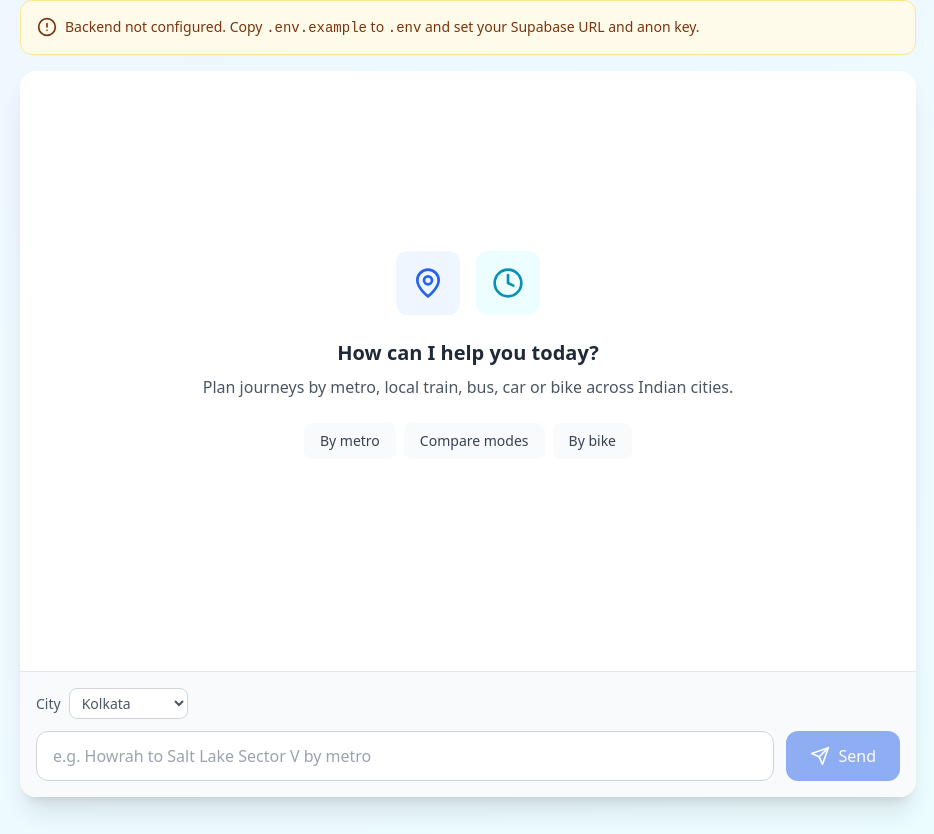
Test case: TransportAssistant › shows city-specific suggestions when the city changes
(page scrolled)
Select "Mumbai" in the dropdown labelled "City" at point(128, 704), box x1=69 y1=688 x2=188 y2=719
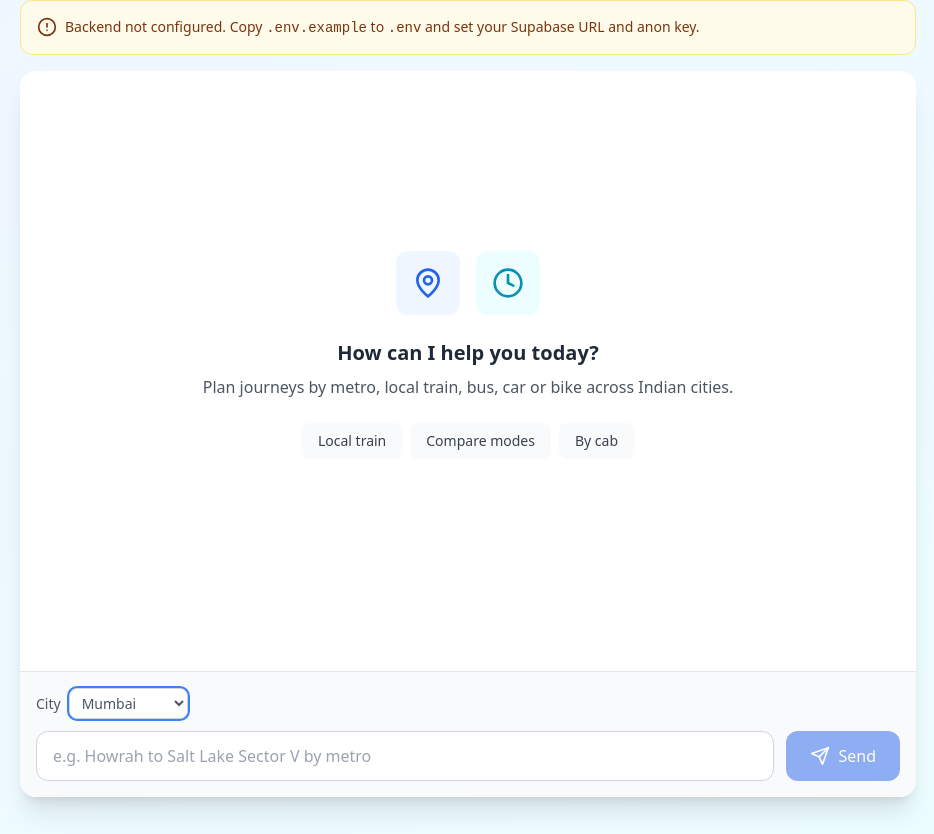
Click the button "Local train" at point(352, 441), box x1=302 y1=423 x2=402 y2=459
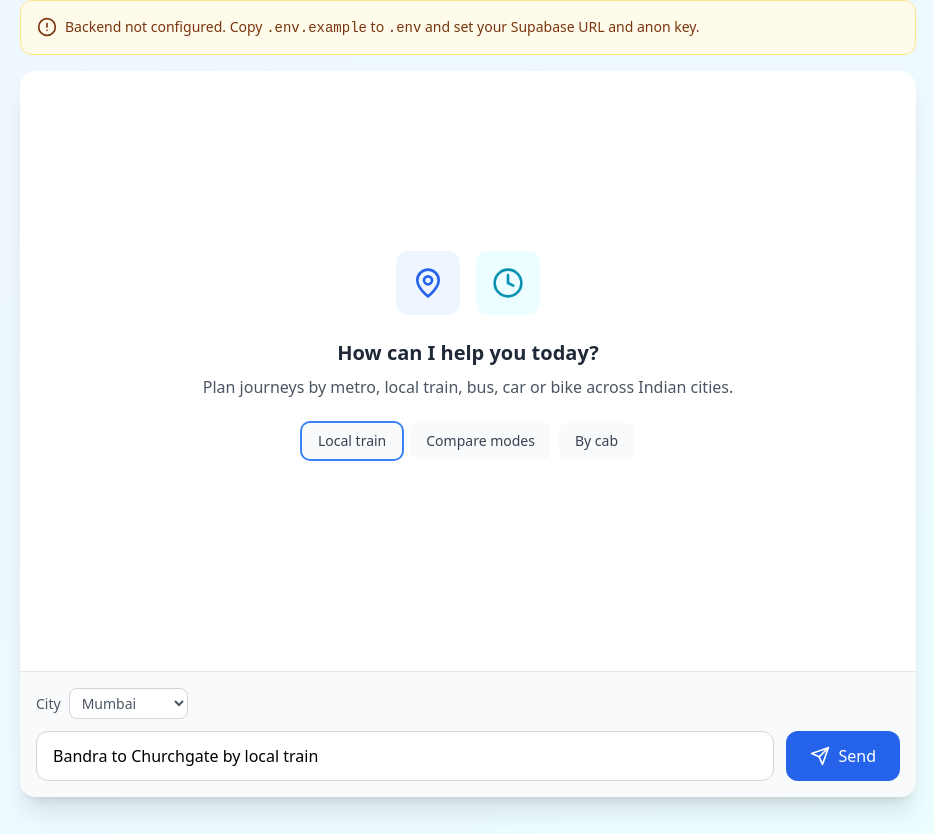
Result: the field named "ask about getting around" holds "Bandra to Churchgate by local train" at x1=36 y1=731 x2=774 y2=781
